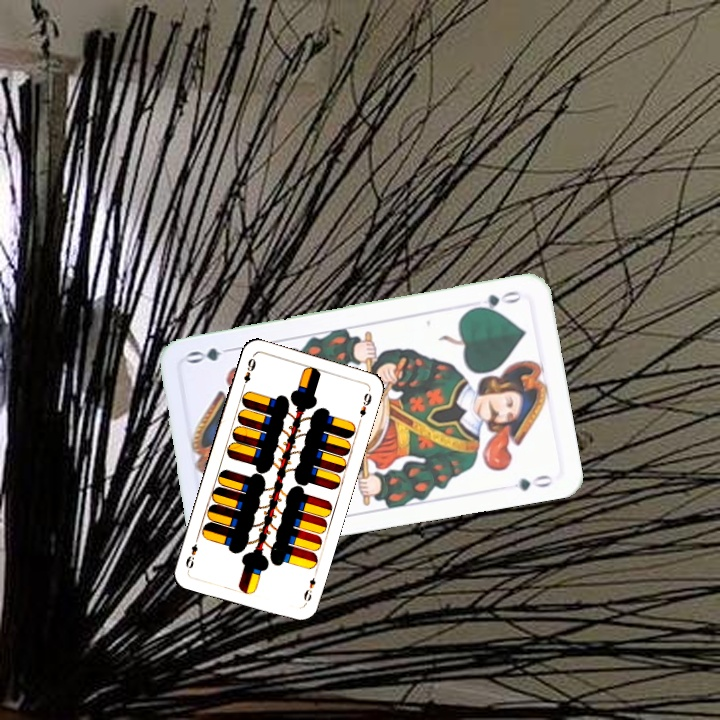E9: (299, 568, 319, 608), (238, 354, 258, 392)
GO: (468, 287, 524, 313)
